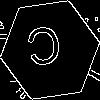C: (25, 25, 64, 76)
